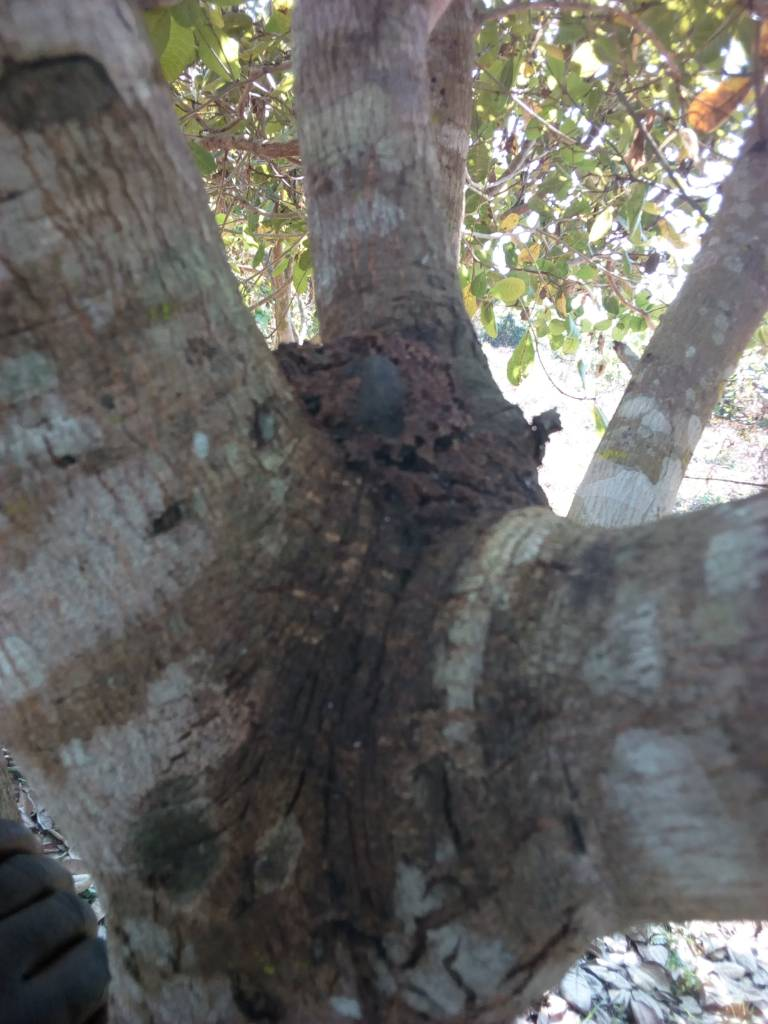Termites: (294, 327, 507, 522)
